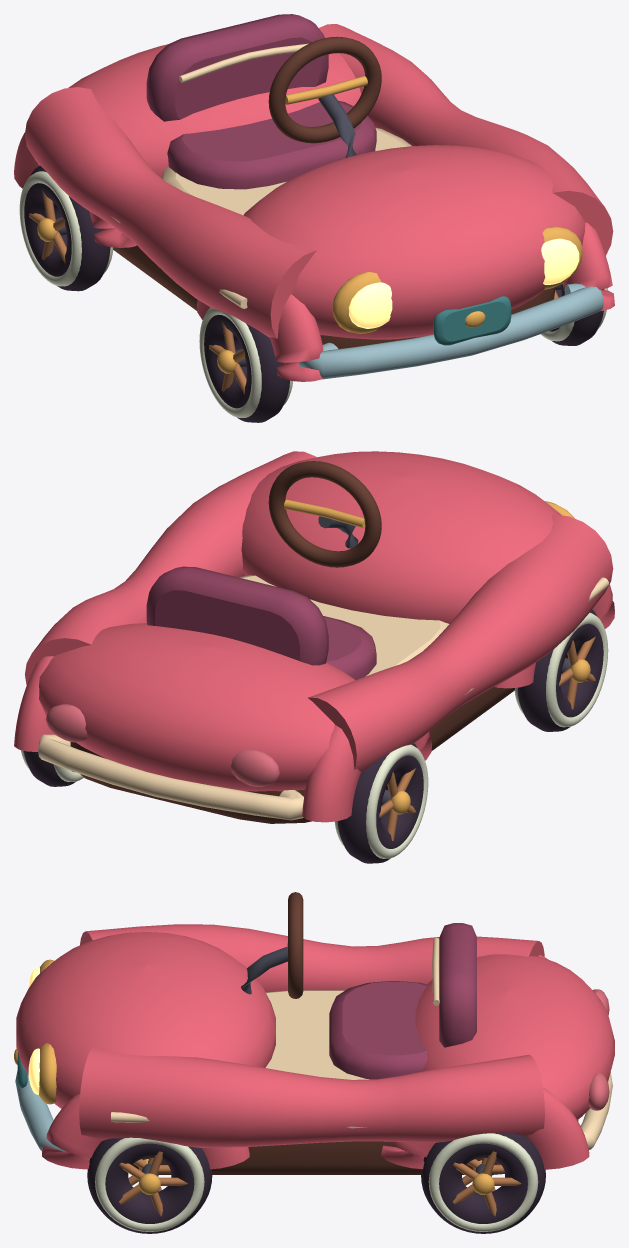
The model's file is mount_car.glb.
The picture shows the model from 3 angles, top to bottom: view 1: azimuth 30°, elevation 25°; view 2: azimuth 150°, elevation 25°; view 3: azimuth 270°, elevation 25°; orthographic projection. The views are drawn at different scales.
Visible parts, largest first — view 1: Carrocería de Autito Bombón.003, Wheel_2 mesh.003, Wheel_0 mesh.003, Wheel_1 mesh.003; view 2: Carrocería de Autito Bombón.003, Wheel_2 mesh.003, Wheel_0 mesh.003, Wheel_3 mesh.003; view 3: Carrocería de Autito Bombón.003, Wheel_3 mesh.003, Wheel_1 mesh.003.
Boxes of the visible parts, bbox=[...] form: Carrocería de Autito Bombón.003: bbox=[14, 14, 614, 381]; Wheel_2 mesh.003: bbox=[19, 165, 113, 291]; Wheel_0 mesh.003: bbox=[199, 307, 292, 422]; Wheel_1 mesh.003: bbox=[540, 284, 607, 345]; Carrocería de Autito Bombón.003: bbox=[14, 451, 614, 823]; Wheel_2 mesh.003: bbox=[334, 743, 428, 863]; Wheel_0 mesh.003: bbox=[514, 609, 608, 731]; Wheel_3 mesh.003: bbox=[20, 750, 83, 786]; Carrocería de Autito Bombón.003: bbox=[14, 892, 614, 1174]; Wheel_3 mesh.003: bbox=[421, 1133, 545, 1233]; Wheel_1 mesh.003: bbox=[87, 1137, 212, 1233].
Bounding box in the file's own units: 1.12 × 0.793 × 1.64.
